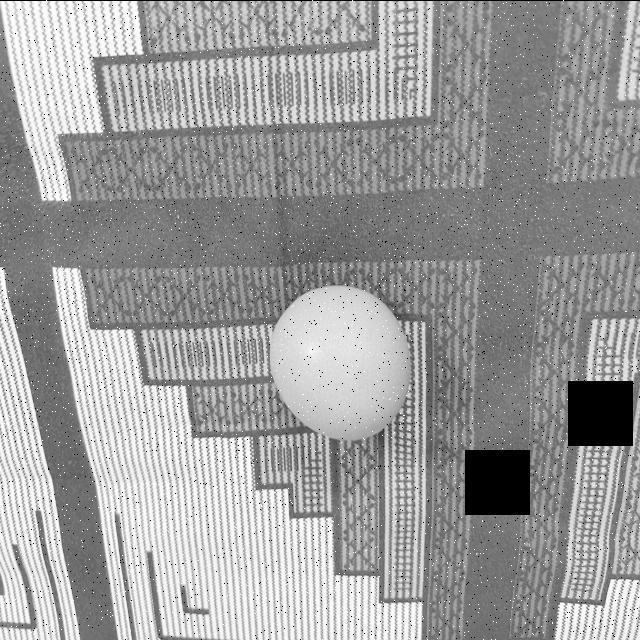egg: (265, 281, 414, 451)
